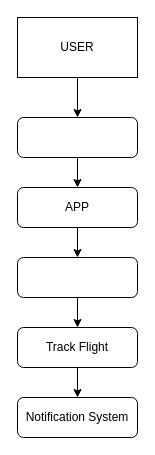
The diagram is 155 pixels wide and 455 high, and some of its shapes have lost their labels. The shapes that lost their labels are listed below. From the top down, each one's centre as x and y in pixels, then its label:
(x=77, y=137): Register
(x=77, y=277): Search Flight
